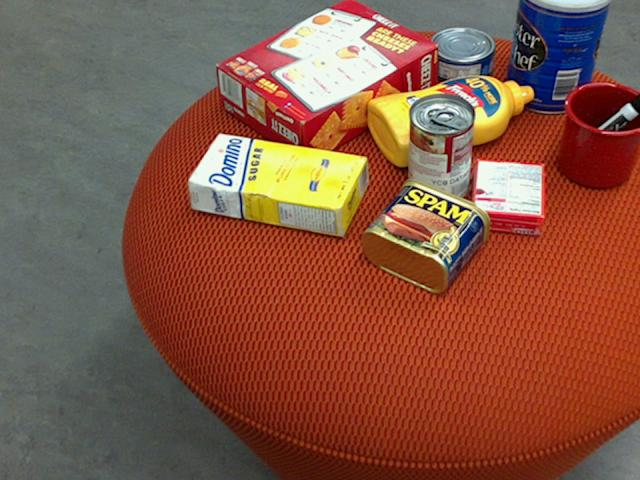cracker_box: (214, 0, 437, 164)
gelatin_box: (471, 159, 546, 237)
large_marker: (562, 91, 639, 167)
master_chef_can: (504, 0, 611, 113)
mug: (558, 81, 639, 188)
mustard_bottle: (367, 76, 534, 166)
potted_meat_can: (360, 177, 489, 293)
sugar_box: (185, 132, 367, 237)
tomato_soup_can: (407, 91, 474, 206)
tuna_fish_can: (426, 27, 495, 82)
